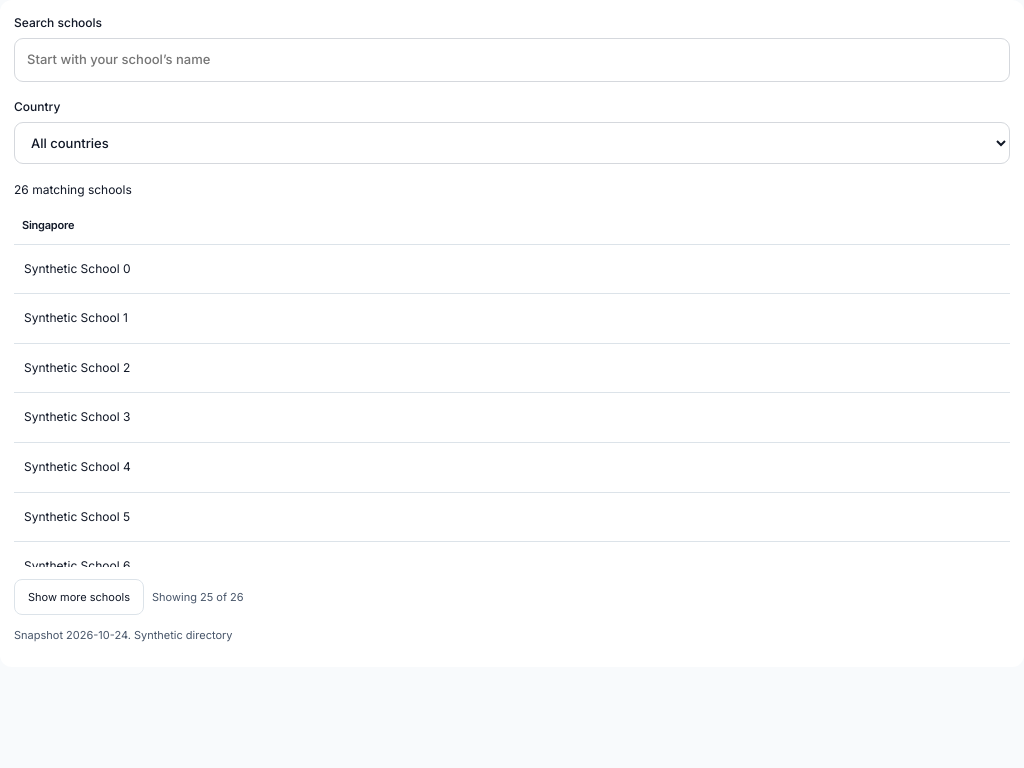
Test: Show more appends schools under the same country without dropping earlier matches
Expected: the button "Synthetic School 0" is shown, [14,244,1010,293]
Click the button "Show more schools" at (79, 597), box [14,579,144,615]
(page scrolled)
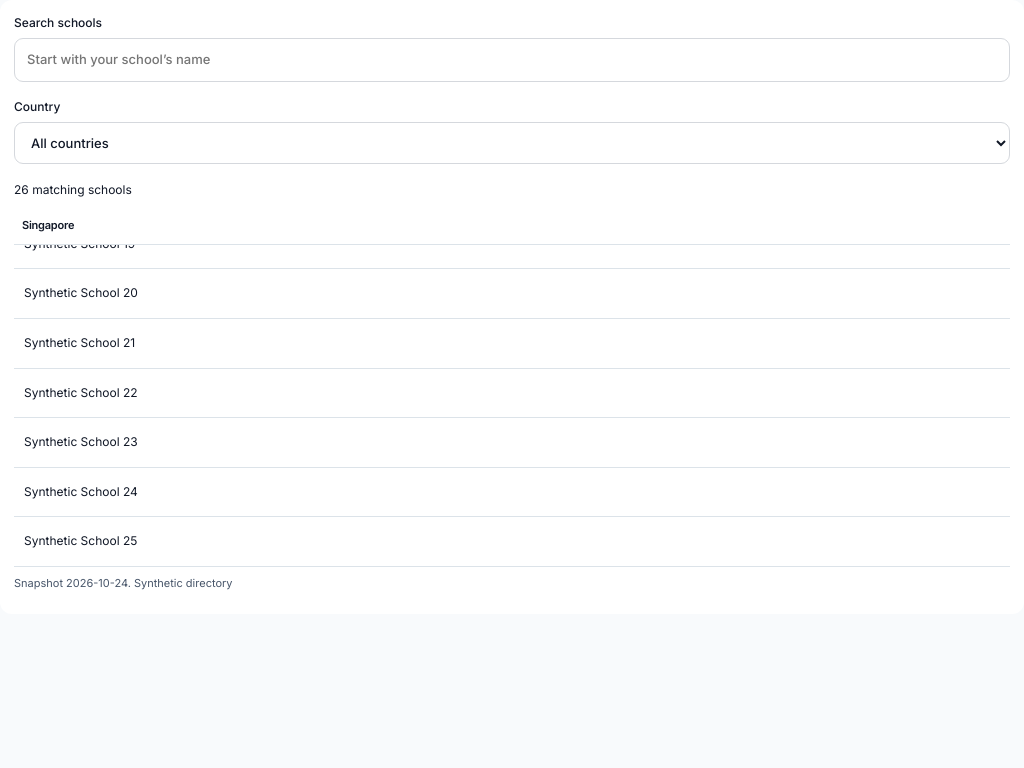
Expected: the number of headings "Singapore" is 1, [14,207,1010,244]
Expected: the button "Synthetic School 25" is shown, [14,517,1010,566]
Expected: the button "Show more schools" is gone
